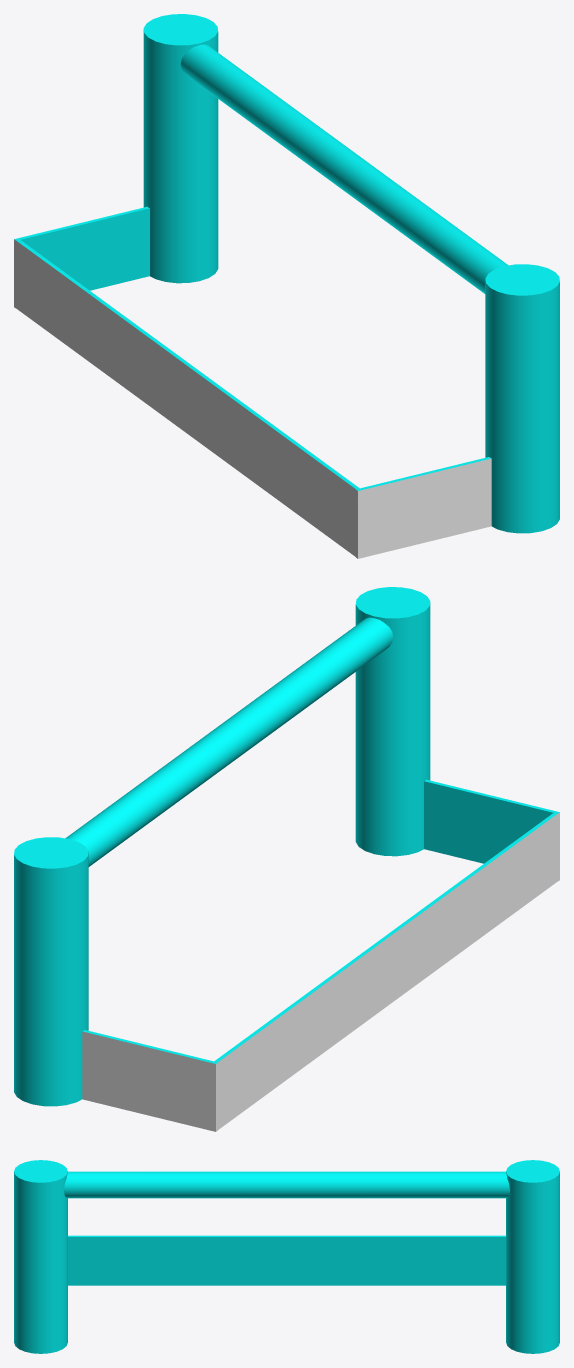
The model's file is BlueGoal.obj.
3 views of the same model, one above another, from view 1: azimuth 30°, elevation 25°; view 2: azimuth 150°, elevation 25°; view 3: azimuth 270°, elevation 25° (orthographic). The views are drawn at different scales.
Visible parts, largest first — view 1: group8 group7 pCube17, pCylinder6 group8 group7, group8 group7 pCylinder8, group8 group7 pCylinder7, group8 group7 pCube16, group8 group7 pCube18; view 2: group8 group7 pCube17, group8 group7 pCylinder8, pCylinder6 group8 group7, group8 group7 pCylinder7, group8 group7 pCube18, group8 group7 pCube16; view 3: group8 group7 pCube17, group8 group7 pCylinder7, pCylinder6 group8 group7, group8 group7 pCylinder8.
Part boxes in pixels (x1,y1,x2,y2): group8 group7 pCube17: (16,239,359,556); pCylinder6 group8 group7: (485,264,559,533); group8 group7 pCylinder8: (143,14,218,283); group8 group7 pCylinder7: (180,44,508,293); group8 group7 pCube16: (355,457,491,558); group8 group7 pCube18: (14,206,149,308); group8 group7 pCube17: (213,813,557,1129); group8 group7 pCylinder8: (14,837,88,1106); pCylinder6 group8 group7: (355,587,430,856); group8 group7 pCylinder7: (65,617,393,866); group8 group7 pCube18: (82,1030,218,1131); group8 group7 pCube16: (424,779,559,881); group8 group7 pCube17: (68,1235,505,1285); group8 group7 pCylinder7: (64,1171,509,1198); pCylinder6 group8 group7: (14,1160,67,1353); group8 group7 pCylinder8: (506,1160,559,1353).
Bounding box in the file's own units: 0.3054 × 0.35 × 1.01.
